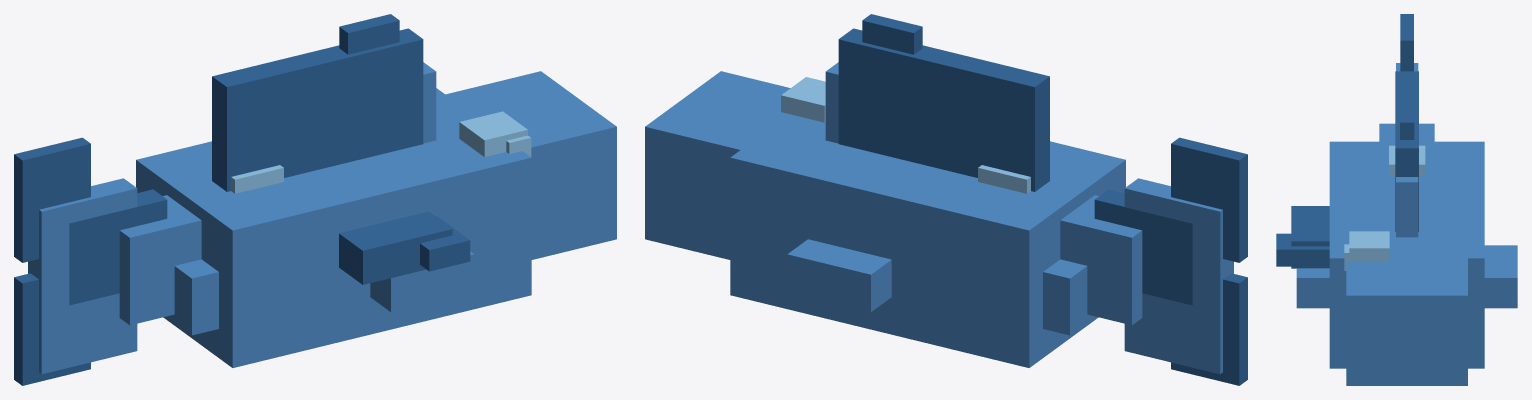
File: fish_aurora_cobalt.glb
3 renders of one model, left to right at view 1: azimuth 30°, elevation 25°; view 2: azimuth 150°, elevation 25°; view 3: azimuth 270°, elevation 25°, orthographic. The views are drawn at different scales.
Visible parts, largest first — view 1: FishArt_body, FishArt_dorsal, FishArt_tail, FishArt_pectoral, FishArt_eye, FishArt_specialty; view 2: FishArt_body, FishArt_dorsal, FishArt_tail, FishArt_eye, FishArt_specialty; view 3: FishArt_body, FishArt_pectoral, FishArt_dorsal, FishArt_eye, FishArt_tail, FishArt_specialty.
Boxes of the visible parts, <box> form: FishArt_body: <box>28,62,616,374</box>; FishArt_dorsal: <box>212,14,423,191</box>; FishArt_tail: <box>14,137,167,385</box>; FishArt_pectoral: <box>339,211,470,284</box>; FishArt_eye: <box>459,111,531,156</box>; FishArt_specialty: <box>231,165,283,193</box>; FishArt_body: <box>645,62,1233,374</box>; FishArt_dorsal: <box>838,14,1049,191</box>; FishArt_tail: <box>1094,137,1247,385</box>; FishArt_eye: <box>781,77,825,122</box>; FishArt_specialty: <box>978,165,1030,193</box>; FishArt_body: <box>1296,63,1517,385</box>; FishArt_pectoral: <box>1276,206,1329,268</box>; FishArt_dorsal: <box>1395,71,1418,231</box>; FishArt_eye: <box>1344,231,1389,270</box>; FishArt_tail: <box>1400,14,1413,71</box>; FishArt_specialty: <box>1389,145,1425,175</box>.
Size of the model in its own units: 0.3091 by 0.1442 by 0.1439.
